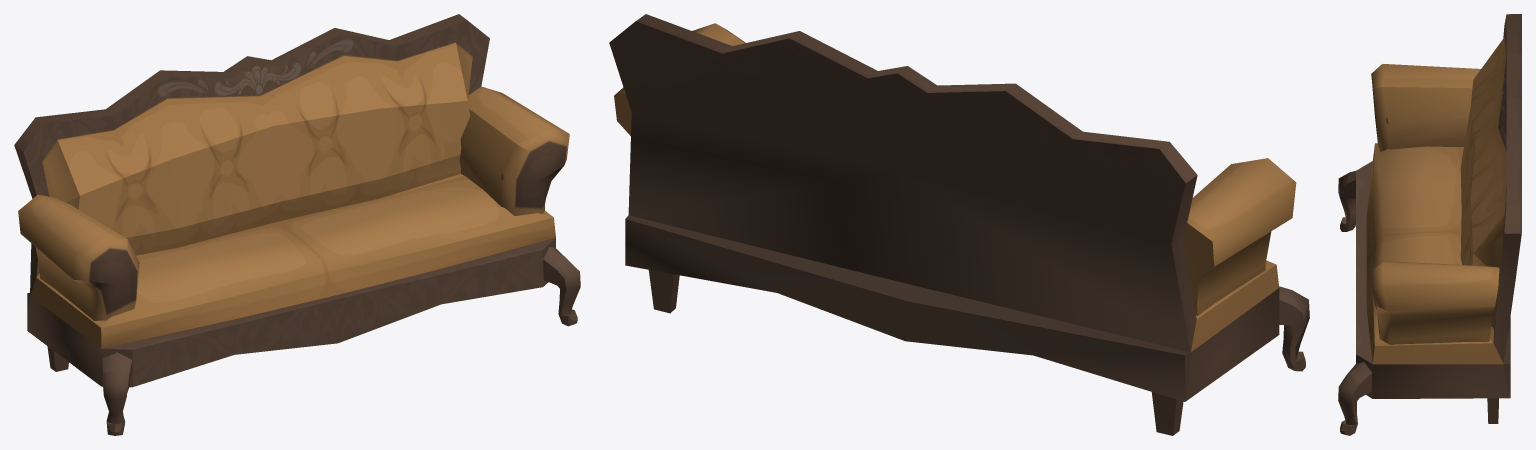
File: sofa_1.FBX
The picture shows the model from 3 angles, left to right: view 1: azimuth 30°, elevation 25°; view 2: azimuth 150°, elevation 25°; view 3: azimuth 270°, elevation 25°; orthographic projection. The views are drawn at different scales.
Parts seen in each view (by area): view 1: 소파007; view 2: 소파007; view 3: 소파007.
Boxes of the visible parts, bbox=[...] form: 소파007: bbox=[14, 14, 580, 435]; 소파007: bbox=[609, 14, 1309, 435]; 소파007: bbox=[1338, 14, 1521, 435].
Size of the model in its own units: 91.78 by 46.11 by 32.24.
